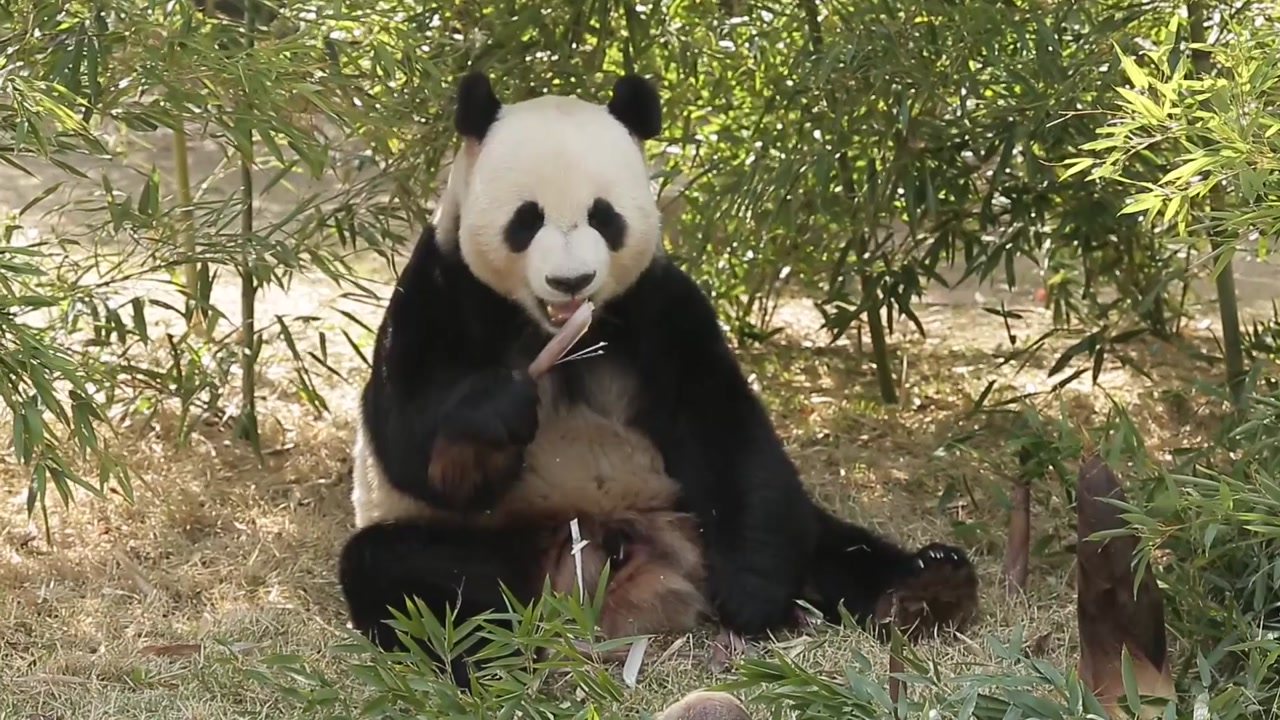panda: (343, 53, 1008, 667)
